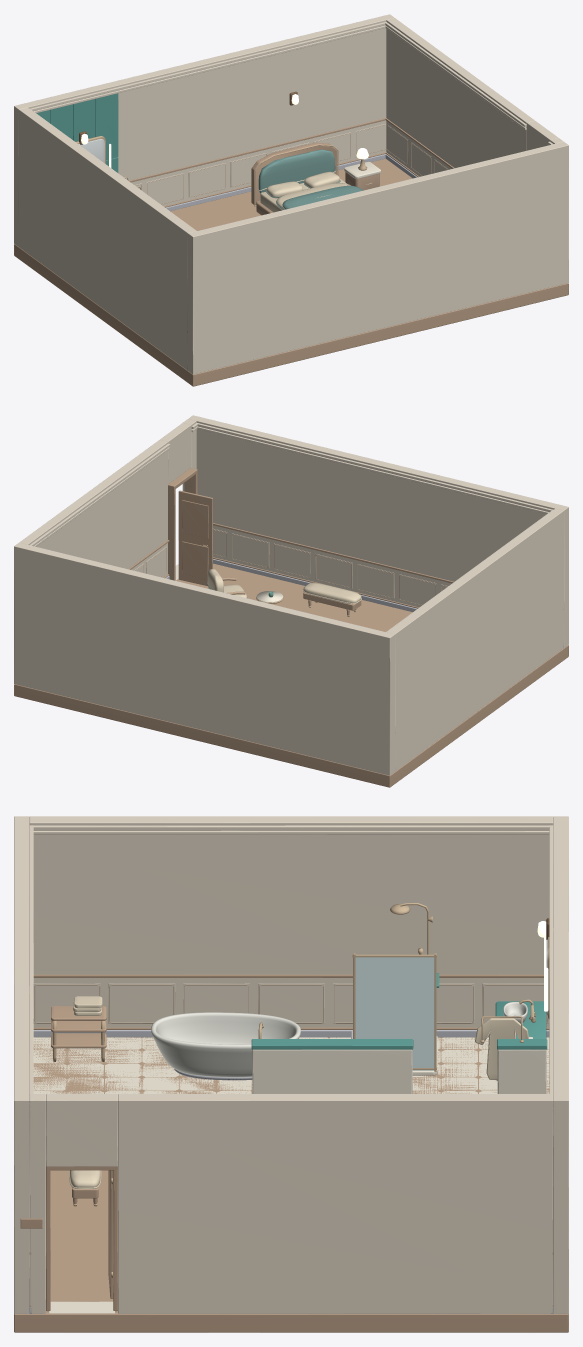
Rendered from HotelH05_FinalPolish.fbx.
The picture shows the model from 3 angles, top to bottom: view 1: azimuth 30°, elevation 25°; view 2: azimuth 150°, elevation 25°; view 3: azimuth 270°, elevation 25°; orthographic projection. The views are drawn at different scales.
Parts seen in each view (by area): view 1: Continuous finished wall.001, Continuous finished wall, Continuous finished wall.002, Load-bearing doorway return, Uniform foundation, Single continuous padded headboard, Continuous stepped wall trim.004, Polished fitted teal marble wall slab.007, Continuous stepped wall trim.003, Scalloped solid oak headboard, Inset finished panel field.004, Inset finished panel field.003 (+12 smaller); view 2: Continuous finished wall, Continuous finished wall.001, Continuous finished wall.002, Uniform foundation, Load-bearing doorway return, Continuous stepped wall trim.019, Solid paneled walnut leaf, Load-bearing doorway return.002, Continuous stepped wall trim.018, Inset finished panel field.017, Inset finished panel field.018, Inset finished panel field.019 (+9 smaller); view 3: Load-bearing doorway return, Continuous finished wall.002, Uniform foundation, Continuous finished wall, Continuous finished wall.001, Polished solid low stone partition, H05 shower glazing, Monolithic outer tub, rolled rim and interior, Load-bearing doorway return.002, Load-bearing doorway return.001, Continuous stepped wall trim.024, Inset finished panel field.026 (+22 smaller).
Part boxes in pixels (bbox=[...]): Continuous finished wall.001: bbox=[188, 141, 568, 374]; Continuous finished wall: bbox=[14, 14, 394, 246]; Continuous finished wall.002: bbox=[19, 107, 195, 369]; Load-bearing doorway return: bbox=[386, 18, 534, 176]; Uniform foundation: bbox=[14, 158, 568, 386]; Single continuous padded headboard: bbox=[258, 149, 335, 193]; Continuous stepped wall trim.004: bbox=[29, 22, 386, 111]; Polished fitted teal marble wall slab.007: bbox=[95, 93, 118, 159]; Continuous stepped wall trim.003: bbox=[34, 25, 385, 113]; Scalloped solid oak headboard: bbox=[251, 142, 336, 204]; Inset finished panel field.004: bbox=[188, 163, 225, 197]; Inset finished panel field.003: bbox=[146, 173, 183, 204]; Continuous finished wall: bbox=[14, 542, 394, 775]; Continuous finished wall.001: bbox=[188, 415, 568, 647]; Continuous finished wall.002: bbox=[387, 508, 563, 771]; Uniform foundation: bbox=[14, 563, 568, 787]; Load-bearing doorway return: bbox=[19, 440, 167, 577]; Continuous stepped wall trim.019: bbox=[197, 423, 553, 512]; Solid paneled walnut leaf: bbox=[178, 490, 212, 586]; Load-bearing doorway return.002: bbox=[160, 423, 191, 484]; Continuous stepped wall trim.018: bbox=[197, 426, 548, 514]; Inset finished panel field.017: bbox=[232, 533, 269, 568]; Inset finished panel field.018: bbox=[273, 543, 310, 578]; Inset finished panel field.019: bbox=[315, 554, 352, 588]; Load-bearing doorway return: bbox=[118, 1094, 553, 1313]; Continuous finished wall.002: bbox=[29, 816, 553, 1027]; Uniform foundation: bbox=[14, 1037, 568, 1332]; Continuous finished wall: bbox=[553, 816, 568, 1313]; Continuous finished wall.001: bbox=[14, 816, 29, 1313]; Polished solid low stone partition: bbox=[252, 1049, 412, 1093]; H05 shower glazing: bbox=[355, 957, 434, 1070]; Monolithic outer tub, rolled rim and interior: bbox=[151, 1012, 300, 1077]; Load-bearing doorway return.002: bbox=[46, 1094, 117, 1166]; Load-bearing doorway return.001: bbox=[29, 1094, 45, 1313]; Continuous stepped wall trim.024: bbox=[30, 825, 553, 830]; Inset finished panel field.026: bbox=[108, 983, 175, 1023].
Bounding box in the file's own units: 10.31 × 3.92 × 8.48.
